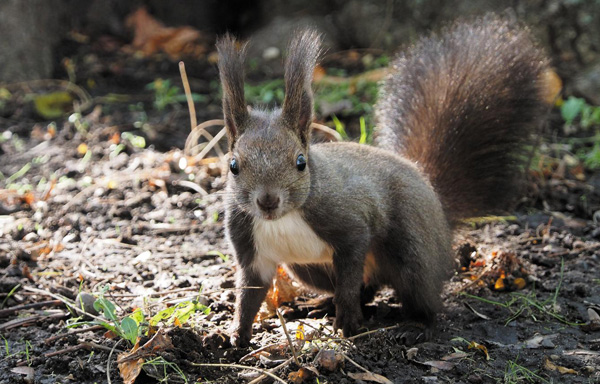chungseolmo: (215, 32, 537, 367)
